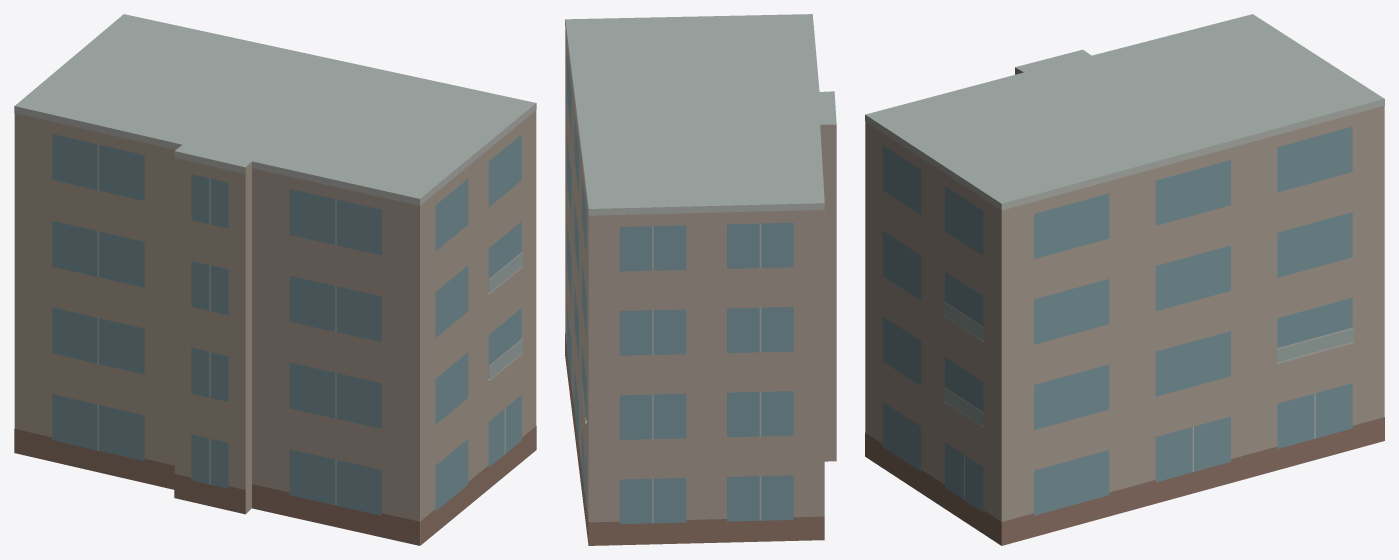
Rendered from survey-upis-32868705.glb.
3 views of the same model, side by side, from view 1: azimuth 30°, elevation 25°; view 2: azimuth 150°, elevation 25°; view 3: azimuth 270°, elevation 25° (orthographic). The views are drawn at different scales.
Visible parts, largest first — view 1: survey-upis-32868705.tmp; view 2: survey-upis-32868705.tmp; view 3: survey-upis-32868705.tmp.
Boxes of the visible parts, x1,y1,x2,y2 form: survey-upis-32868705.tmp: (14, 14, 536, 545); survey-upis-32868705.tmp: (565, 14, 836, 545); survey-upis-32868705.tmp: (865, 14, 1384, 545).
Size of the model in its own units: 14.65 by 12.3 by 16.94.
